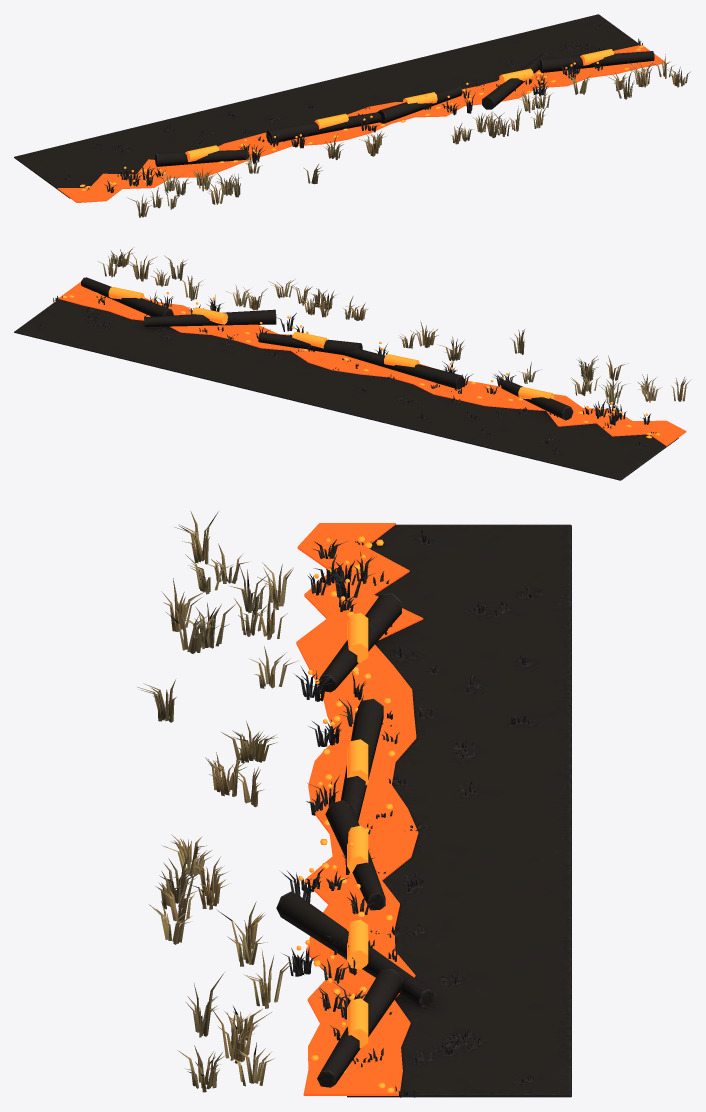
The model's file is fire_front.glb.
The picture shows the model from 3 angles, top to bottom: view 1: azimuth 30°, elevation 25°; view 2: azimuth 150°, elevation 25°; view 3: azimuth 270°, elevation 25°; orthographic projection. The views are drawn at different scales.
Visible parts, largest first — view 1: fire_front, fire_front_glow; view 2: fire_front, fire_front_glow; view 3: fire_front, fire_front_glow.
Part boxes in pixels (x1=…): fire_front: x1=14, y1=14, x2=690, y2=217; fire_front_glow: x1=57, y1=44, x2=665, y2=202; fire_front: x1=14, y1=247, x2=691, y2=480; fire_front_glow: x1=58, y1=282, x2=686, y2=446; fire_front: x1=137, y1=511, x2=571, y2=1097; fire_front_glow: x1=296, y1=523, x2=423, y2=1095.
Bounding box in the file's own units: 12.02 × 0.4654 × 3.89.
3 materials, 1 textured.
